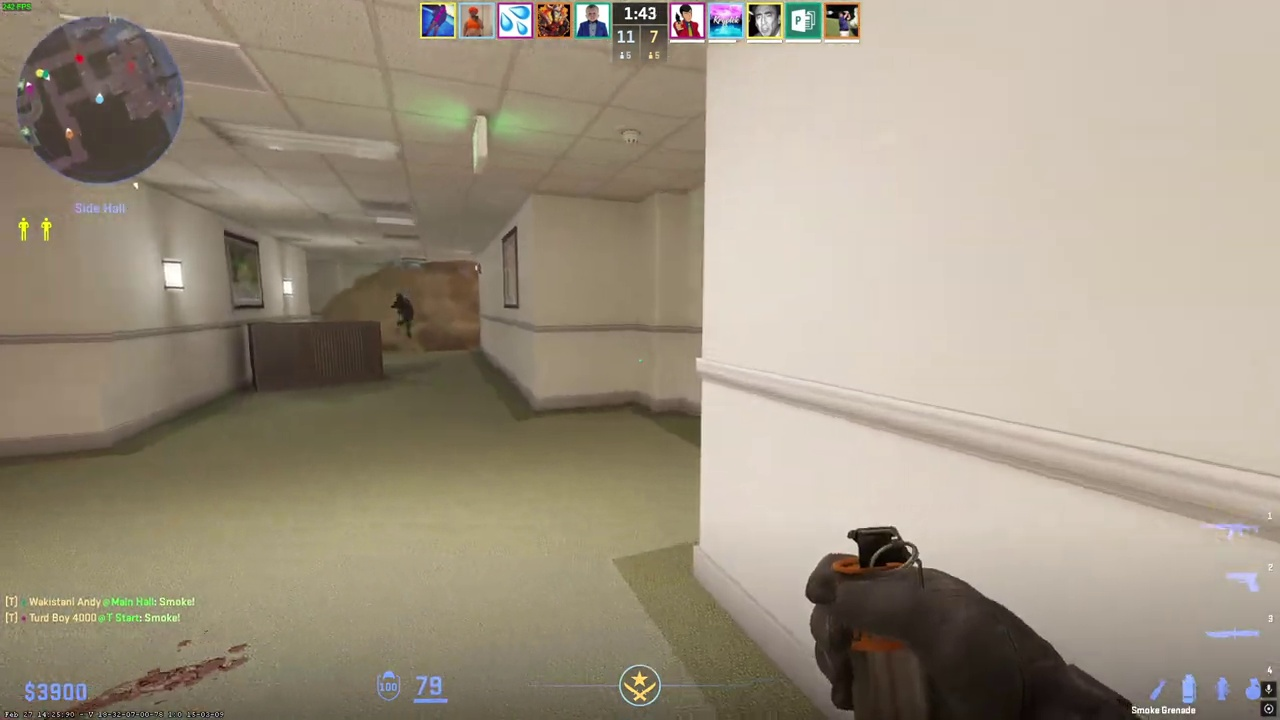CT: (392, 292, 413, 338)
